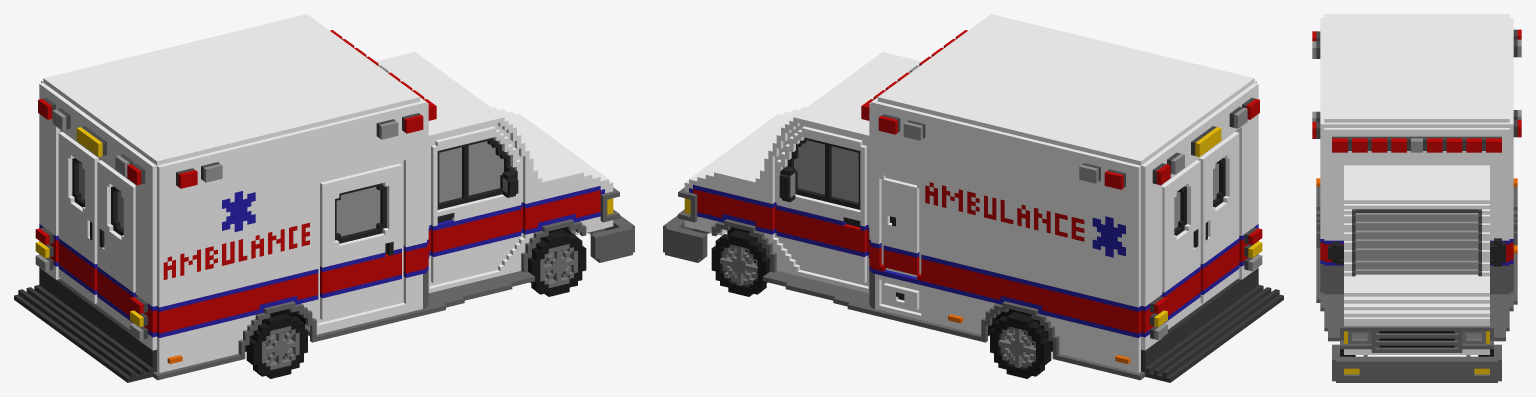
The model's file is ambulence.obj.
3 views of the same model, side by side, from view 1: azimuth 30°, elevation 25°; view 2: azimuth 150°, elevation 25°; view 3: azimuth 270°, elevation 25° (orthographic). The views are drawn at different scales.
Size of the model in its own units: 12.3 by 5.5 by 5.3.
Materials: 1 (1 with a texture image).
